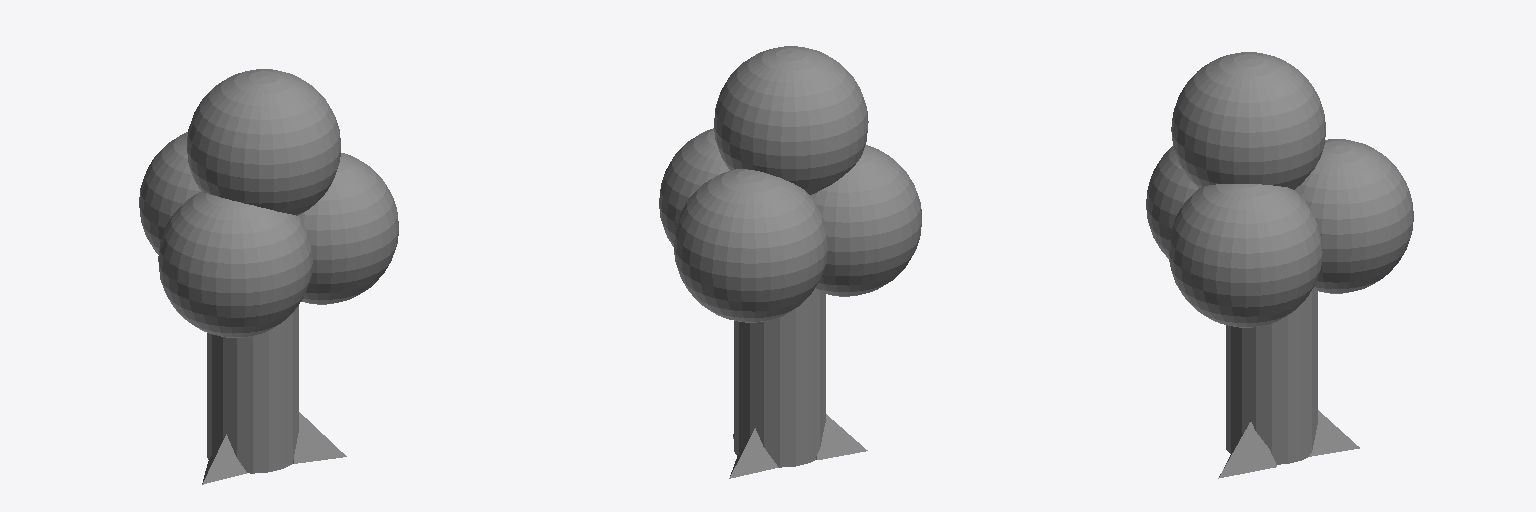
Rendered from arbol.obj.
3 views of the same model, side by side, from view 1: azimuth 30°, elevation 25°; view 2: azimuth 150°, elevation 25°; view 3: azimuth 270°, elevation 25° (orthographic).
Parts seen in each view (by area): view 1: Sphere004, Sphere002, Cylinder001, Sphere001, Sphere003, Pyramid001, Pyramid002; view 2: Sphere003, Sphere004, Cylinder001, Sphere002, Sphere001, Pyramid003, Pyramid002; view 3: Sphere001, Sphere004, Sphere003, Cylinder001, Sphere002, Pyramid001, Pyramid003.
Part boxes in pixels (bbox=[...]): Sphere004: bbox=[187, 69, 340, 215]; Sphere002: bbox=[158, 192, 312, 337]; Cylinder001: bbox=[207, 306, 298, 473]; Sphere001: bbox=[298, 153, 398, 304]; Sphere003: bbox=[139, 132, 200, 254]; Pyramid001: bbox=[293, 412, 346, 463]; Pyramid002: bbox=[202, 434, 246, 484]; Sphere003: bbox=[674, 169, 827, 322]; Sphere004: bbox=[714, 46, 868, 194]; Cylinder001: bbox=[734, 288, 825, 467]; Sphere002: bbox=[810, 145, 921, 296]; Sphere001: bbox=[659, 128, 729, 246]; Pyramid003: bbox=[729, 428, 778, 478]; Pyramid002: bbox=[816, 414, 867, 459]; Sphere001: bbox=[1168, 184, 1322, 327]; Sphere004: bbox=[1171, 52, 1325, 189]; Sphere003: bbox=[1295, 139, 1413, 293]; Cylinder001: bbox=[1226, 290, 1317, 464]; Sphere002: bbox=[1146, 146, 1198, 258]; Pyramid001: bbox=[1218, 421, 1276, 478]; Pyramid003: bbox=[1309, 410, 1359, 456].
Size of the model in its own units: 55.52 by 88.44 by 55.65.